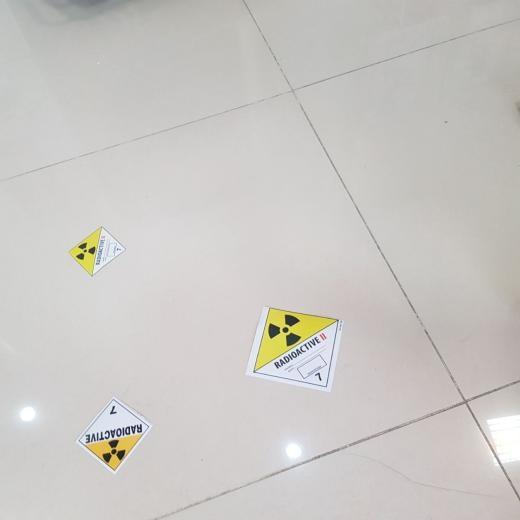radioactive: (252, 307, 340, 387), (79, 400, 148, 471), (68, 226, 128, 275)
